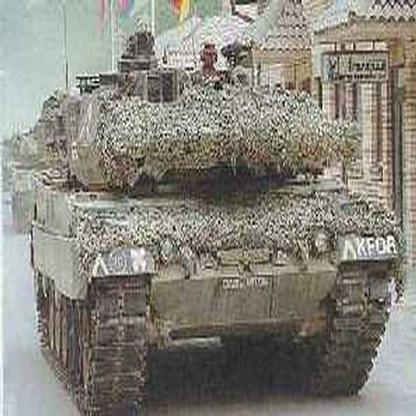Tank: (23, 49, 404, 416)
